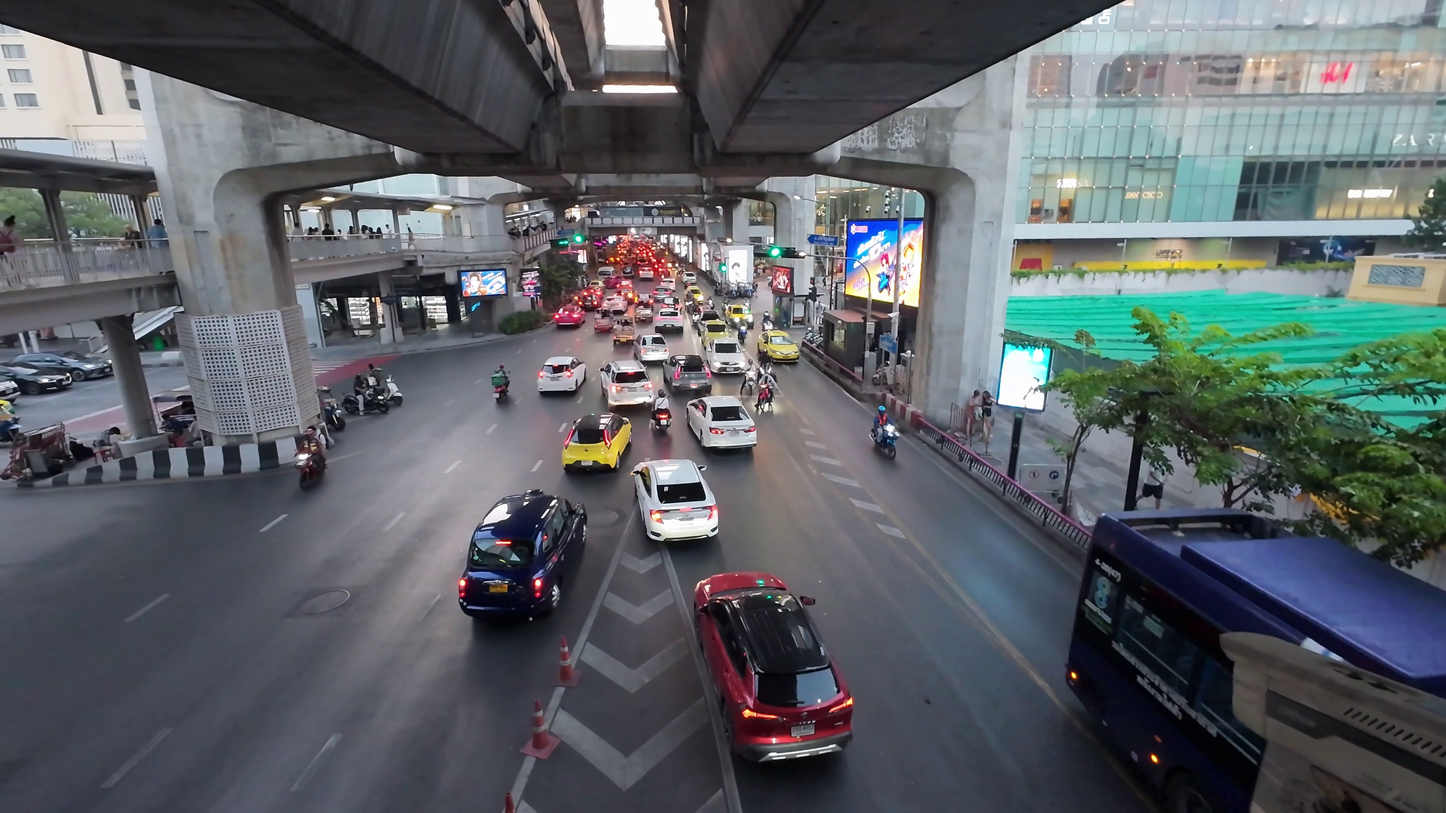license_plate: (1158, 688, 1349, 784), (732, 688, 814, 750), (490, 568, 556, 612), (656, 511, 699, 540), (579, 448, 615, 468), (705, 429, 740, 446), (618, 394, 649, 410), (19, 378, 56, 390), (547, 381, 572, 394), (616, 381, 640, 391)
no_seatbelt: (1120, 551, 1387, 703), (715, 600, 830, 697), (476, 507, 570, 575), (647, 471, 708, 516), (571, 419, 622, 451), (698, 404, 747, 432), (612, 371, 655, 396), (12, 359, 64, 379), (542, 362, 577, 383), (611, 367, 645, 382)
